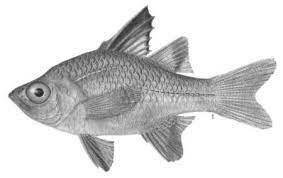Glass Perchlet: (9, 6, 277, 170)
